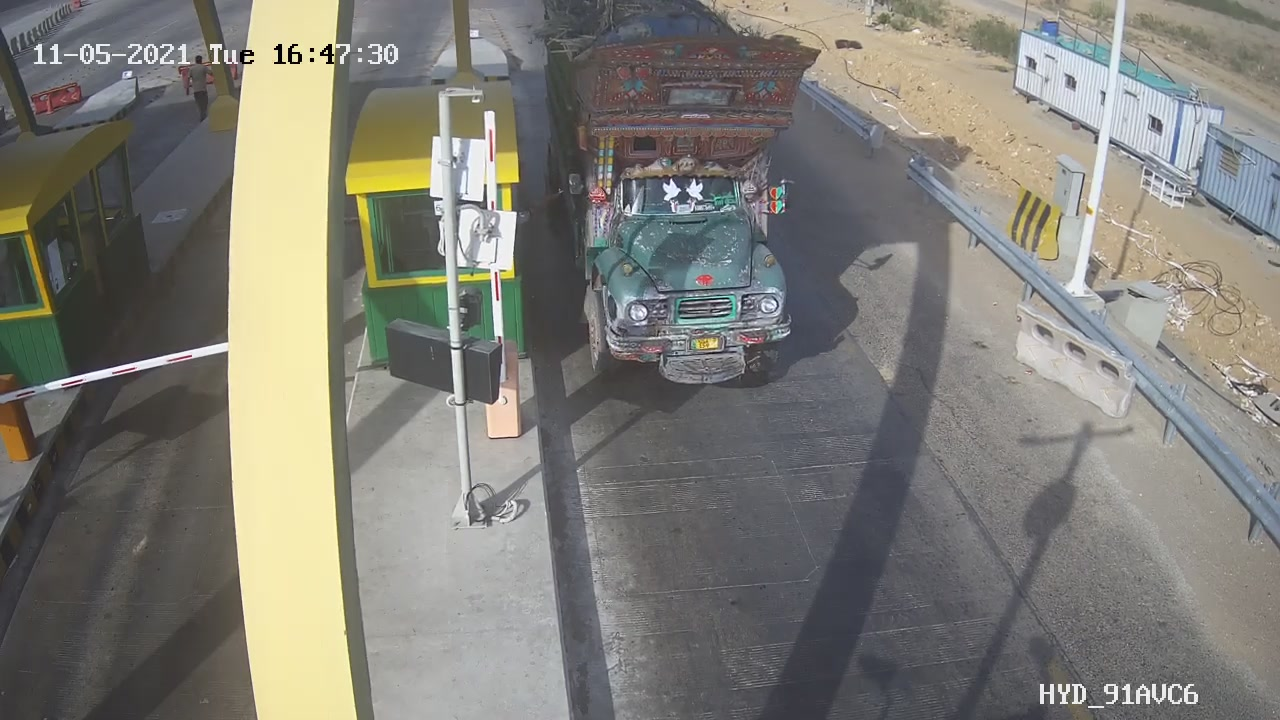F5: (517, 1, 846, 413)
